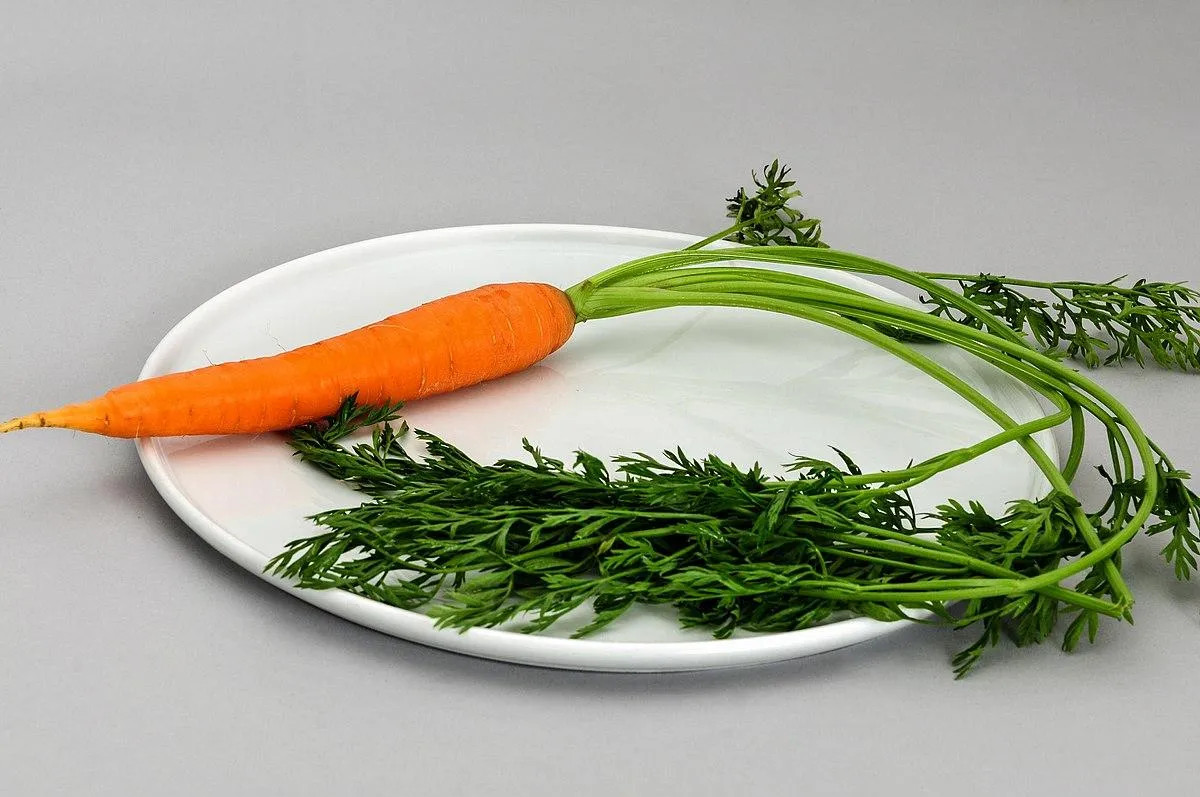carrot: (0, 280, 648, 442)
